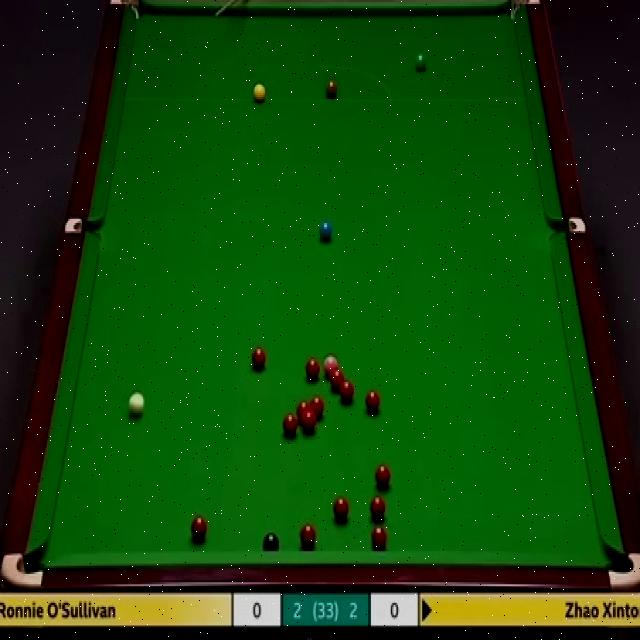black-ball: (264, 532, 282, 551)
blue-ball: (319, 222, 333, 239)
brown-ball: (325, 80, 339, 103)
green-ball: (415, 51, 427, 67)
pink-ball: (324, 355, 338, 375)
red-ball: (333, 493, 349, 522), (309, 395, 326, 422), (190, 515, 208, 540), (375, 463, 391, 491), (282, 413, 298, 438), (371, 530, 389, 551), (371, 496, 386, 520), (298, 524, 314, 546), (252, 346, 265, 371), (302, 412, 316, 434), (329, 368, 344, 388), (340, 382, 353, 404), (304, 358, 318, 378), (365, 392, 380, 410), (296, 402, 310, 421)
white-ball: (127, 389, 145, 422)
yellow-ball: (253, 82, 266, 104)
